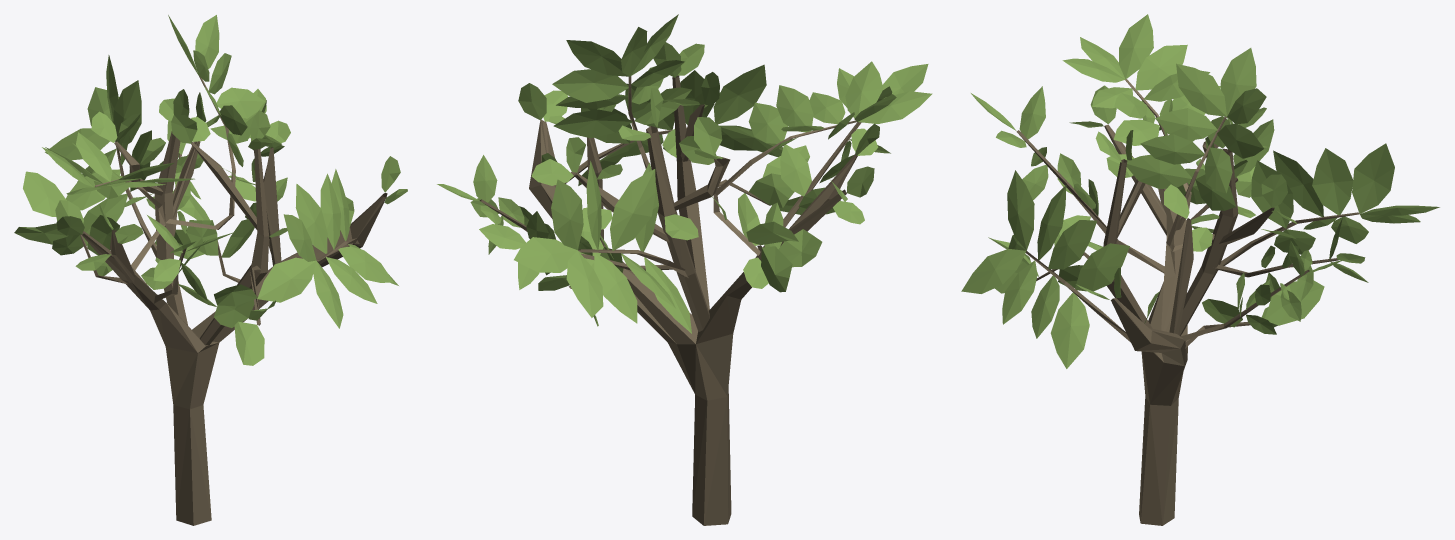
The model's file is Cherry_5_2.fbx.
The picture shows the model from 3 angles, left to right: view 1: azimuth 30°, elevation 25°; view 2: azimuth 150°, elevation 25°; view 3: azimuth 270°, elevation 25°; orthographic projection. The views are drawn at different scales.
Visible parts, largest first — view 1: Cherry_5_2; view 2: Cherry_5_2; view 3: Cherry_5_2.
Boxes of the visible parts, <box> form: Cherry_5_2: <box>14,15,407,525</box>; Cherry_5_2: <box>437,14,932,525</box>; Cherry_5_2: <box>961,14,1439,525</box>.
Size of the model in its own units: 270 by 345 by 311.
